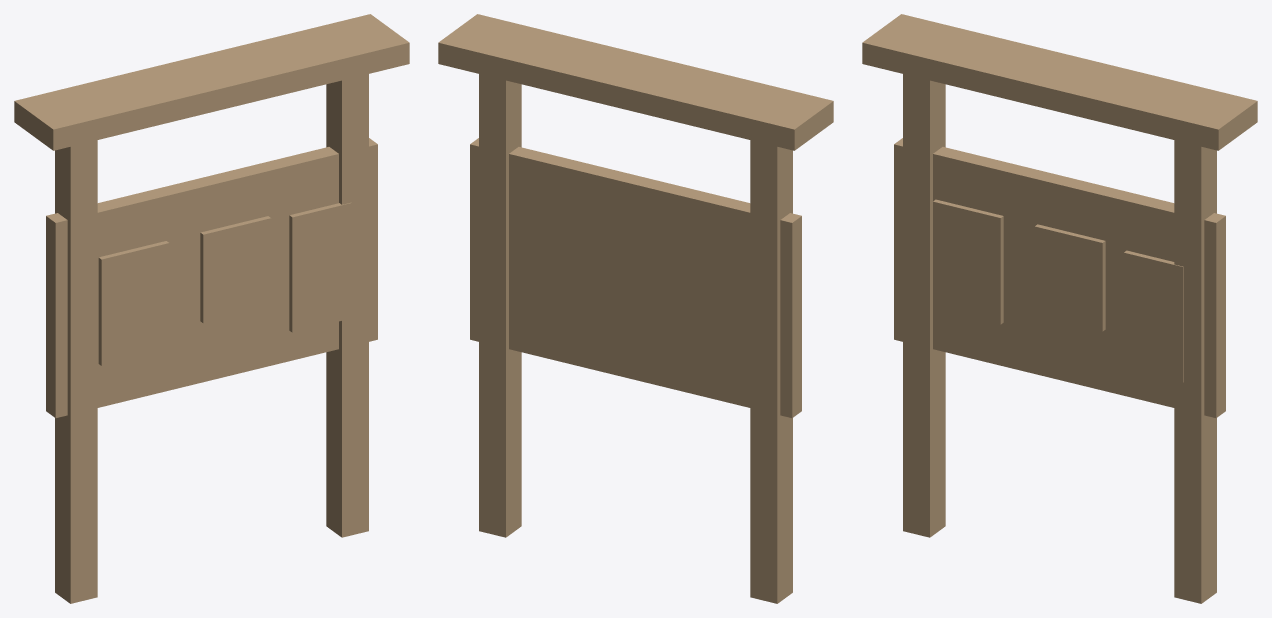
Rendered from notice_board.gltf.
The picture shows the model from 3 angles, left to right: view 1: azimuth 30°, elevation 25°; view 2: azimuth 150°, elevation 25°; view 3: azimuth 330°, elevation 25°; orthographic projection.
Visible parts, largest first — view 1: board_panel, board_cap, board_post_w, board_post_e, board_slip_a, board_slip_c, board_slip_b; view 2: board_panel, board_cap, board_post_w, board_post_e; view 3: board_panel, board_cap, board_post_w, board_post_e, board_slip_a, board_slip_c, board_slip_b.
Part boxes in pixels (x1,y1,x2,y2): board_panel: (46,138,377,417); board_cap: (14,14,409,150); board_post_w: (55,140,97,603); board_post_e: (326,74,368,537); board_slip_a: (98,241,169,365); board_slip_c: (289,202,351,332); board_slip_b: (200,216,271,323); board_panel: (470,138,801,417); board_cap: (438,14,833,150); board_post_w: (750,140,792,603); board_post_e: (479,74,521,537); board_panel: (894,138,1225,417); board_cap: (862,14,1257,150); board_post_w: (903,74,945,537); board_post_e: (1174,140,1216,603); board_slip_a: (933,199,1003,324); board_slip_c: (1123,250,1183,382); board_slip_b: (1034,224,1105,331).
Bounding box in the file's own units: 2.1 × 2.76 × 0.4.
